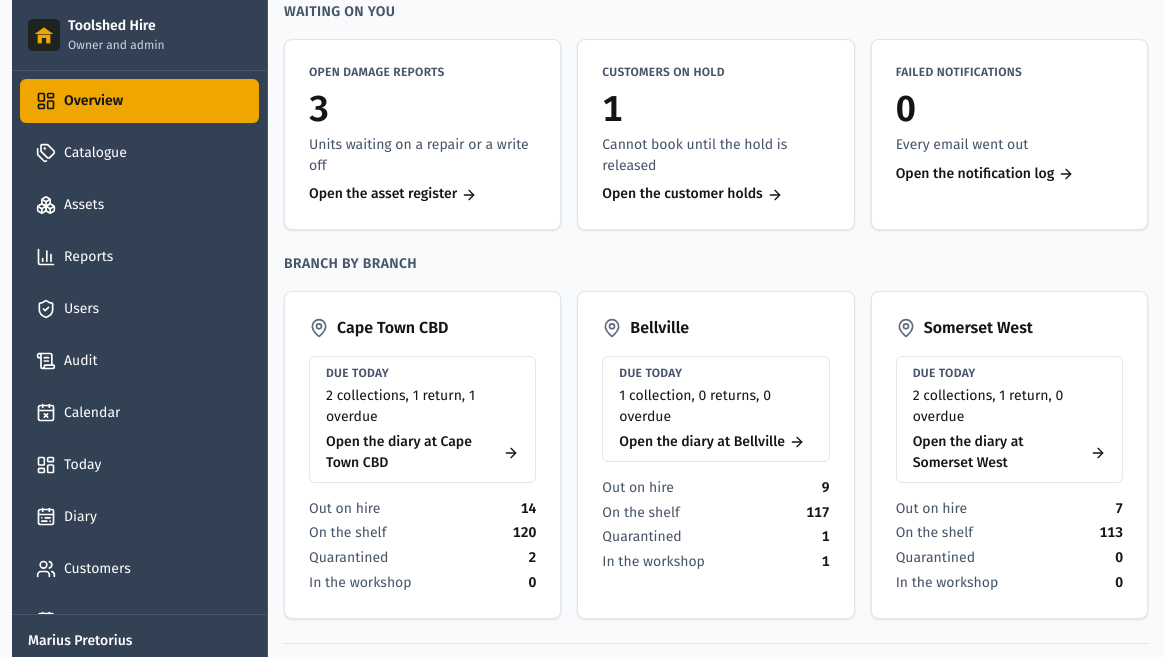
a branch's diary › chooses the branch for the tab and opens its diary on it
(page scrolled)
Click the link "Open the diary at Bellville". click: (716, 409)
box: top-left (602, 356), bottom-right (830, 462)
(page scrolled)
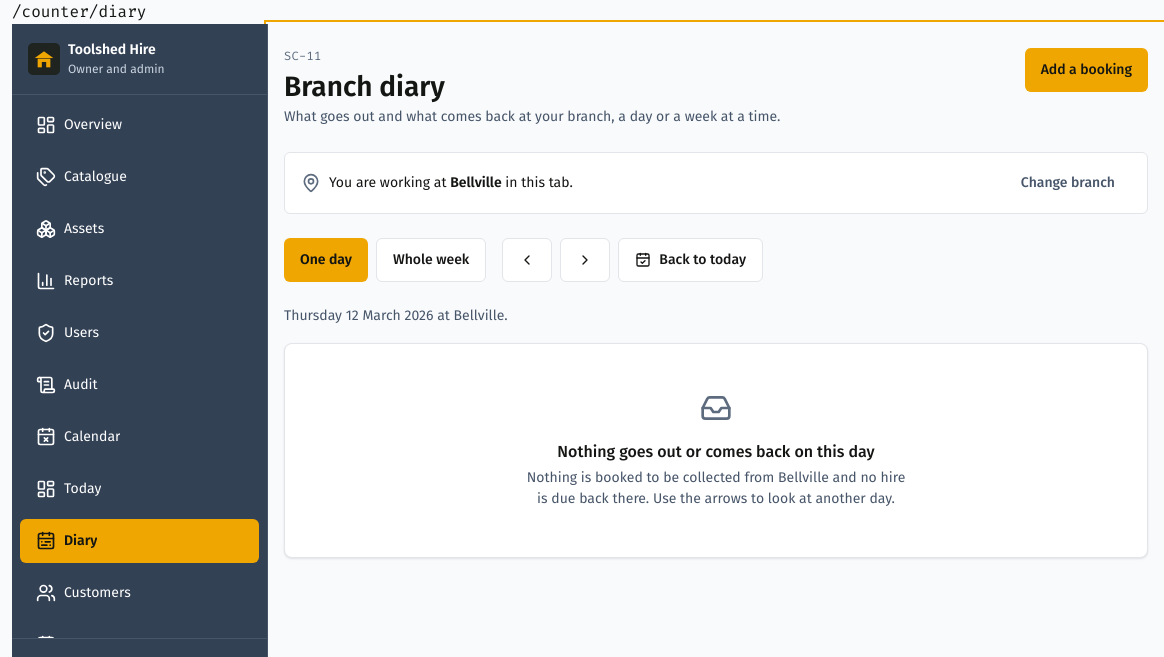
Expected: the text with test id "current-address" reads "/counter/diary", top-left (12, 1), bottom-right (146, 22)
